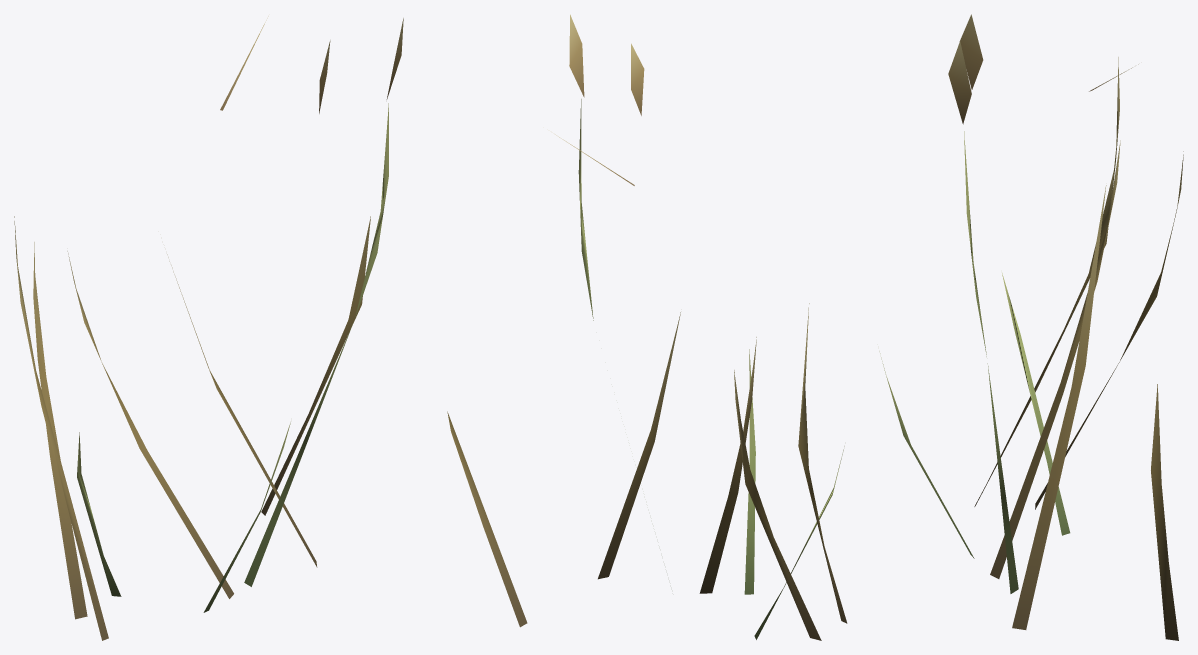
The model's file is DryPrairieClump_LOD2.glb.
The picture shows the model from 3 angles, left to right: view 1: azimuth 30°, elevation 25°; view 2: azimuth 150°, elevation 25°; view 3: azimuth 270°, elevation 25°; orthographic projection. The views are drawn at different scales.
Parts seen in each view (by area): view 1: DryPrairieClump_LOD2; view 2: DryPrairieClump_LOD2; view 3: DryPrairieClump_LOD2.
Boxes of the visible parts, x1,y1,x2,y2 form: DryPrairieClump_LOD2: (14, 16, 403, 640); DryPrairieClump_LOD2: (447, 14, 847, 640); DryPrairieClump_LOD2: (879, 14, 1183, 640).
Size of the model in its own units: 0.3144 by 0.4473 by 0.1991.
